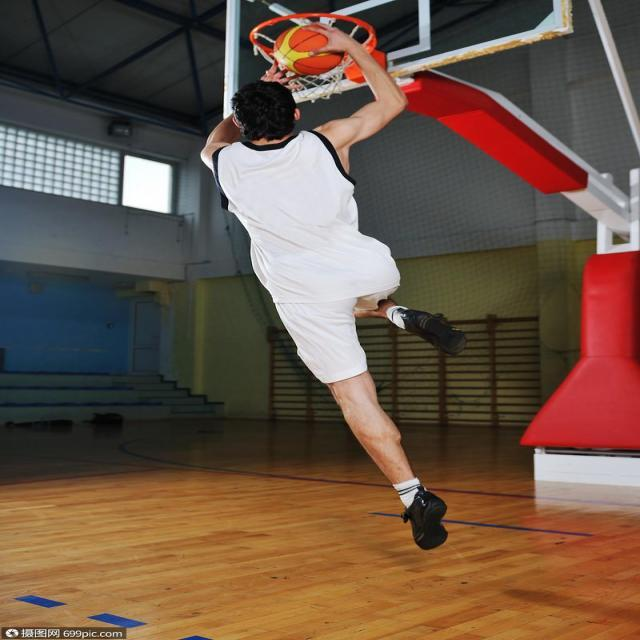rim: (268, 24, 349, 78)
